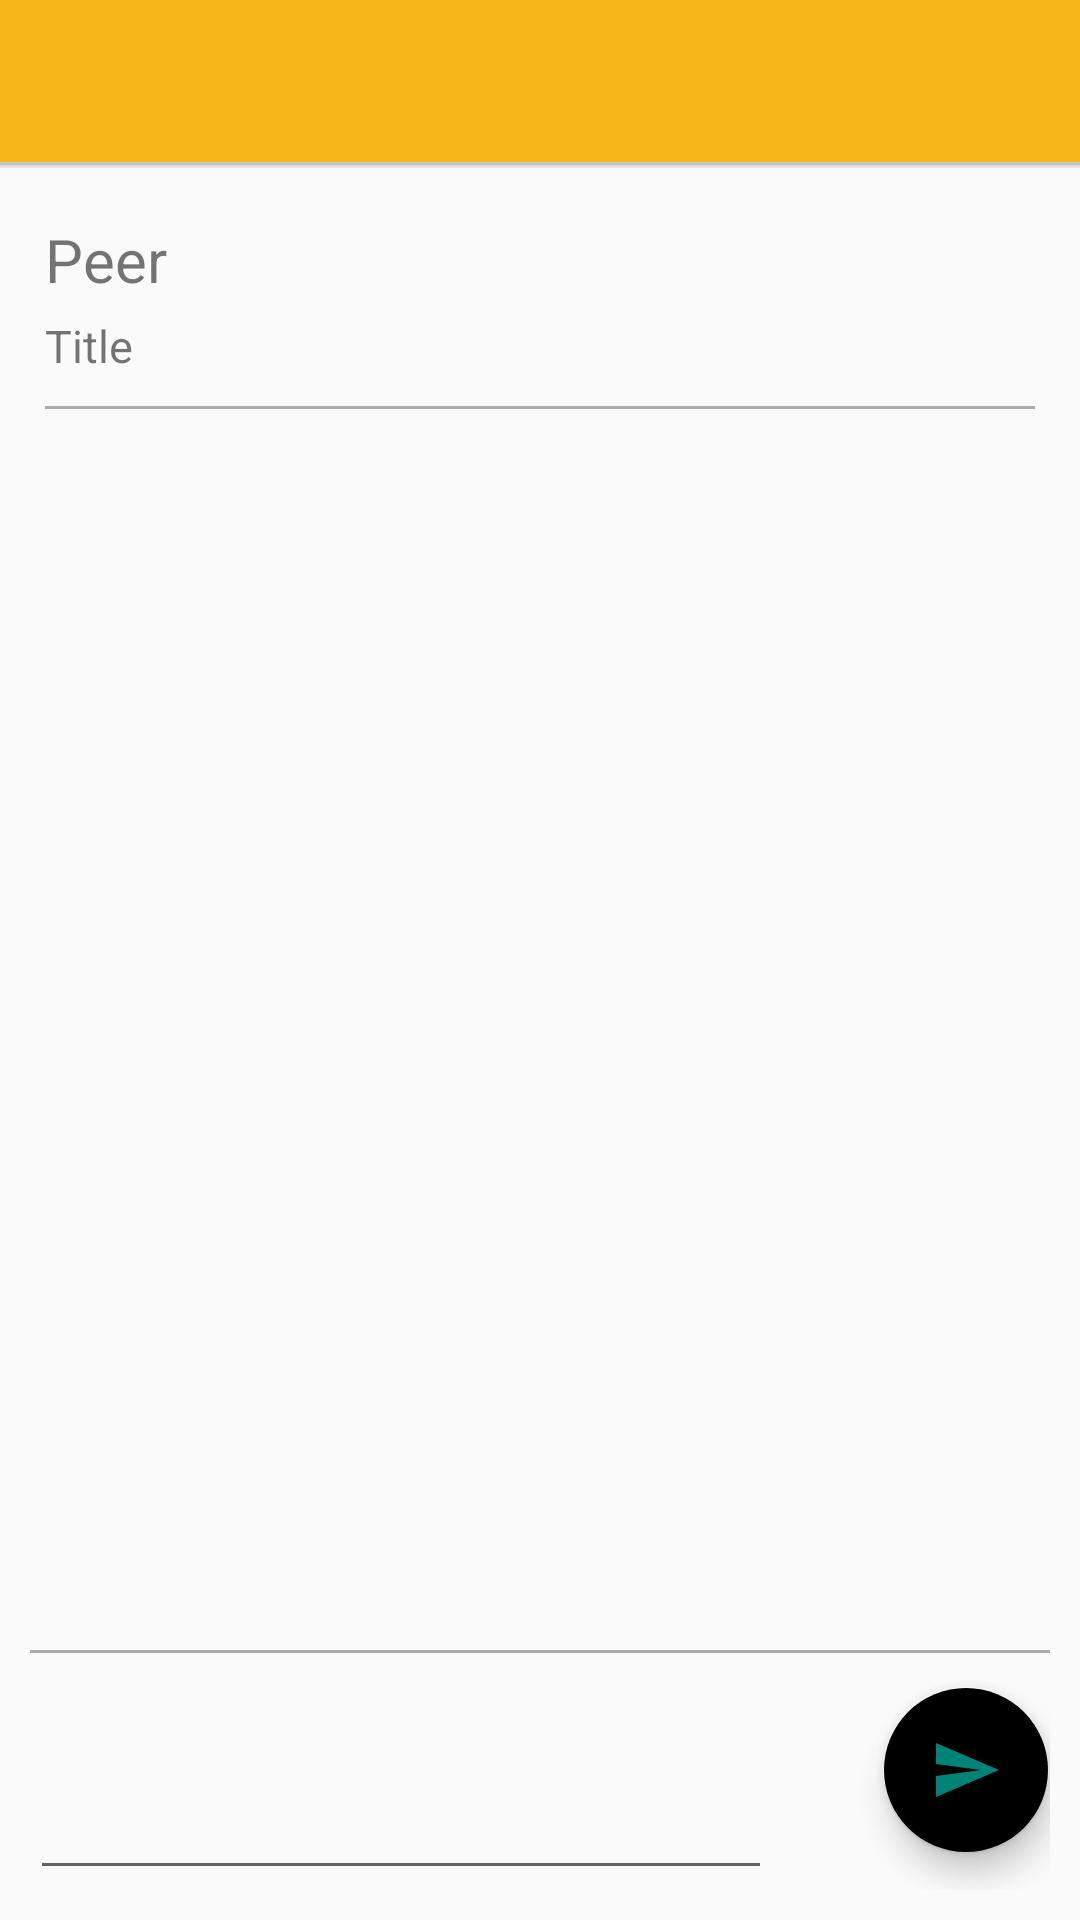

Icons on this 1080w x 1920h Android screen, each with the point to tap as point (x, y):
send second: point (967, 1771)
